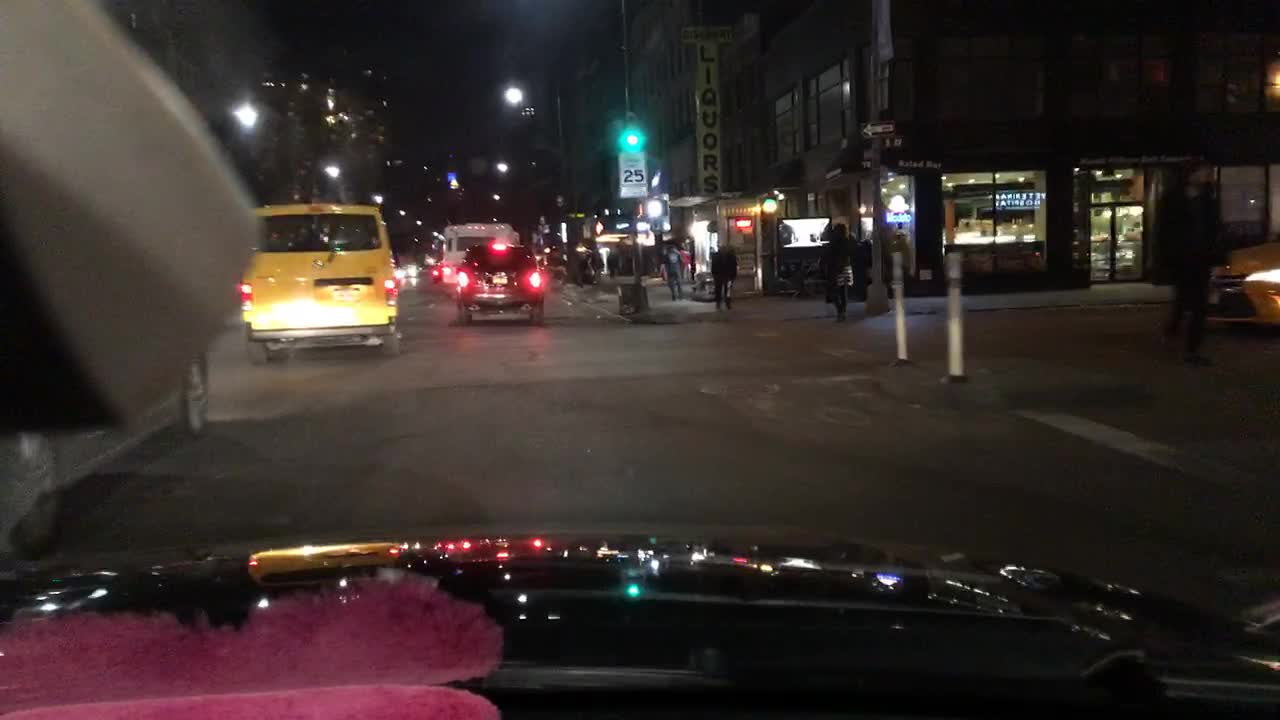car: (238, 204, 405, 361), (1201, 234, 1279, 331), (455, 242, 544, 322), (442, 222, 521, 297), (421, 233, 444, 268), (397, 262, 418, 278)
person: (1154, 155, 1222, 365), (821, 222, 853, 321), (710, 244, 738, 310), (890, 230, 914, 297), (659, 242, 684, 300), (853, 237, 873, 302), (605, 249, 620, 281), (679, 243, 691, 280), (576, 242, 589, 254)
rider: (588, 240, 605, 285)
traffic light: (620, 127, 646, 146)
traffic sign: (695, 38, 721, 200), (616, 151, 649, 198), (861, 121, 897, 137)
